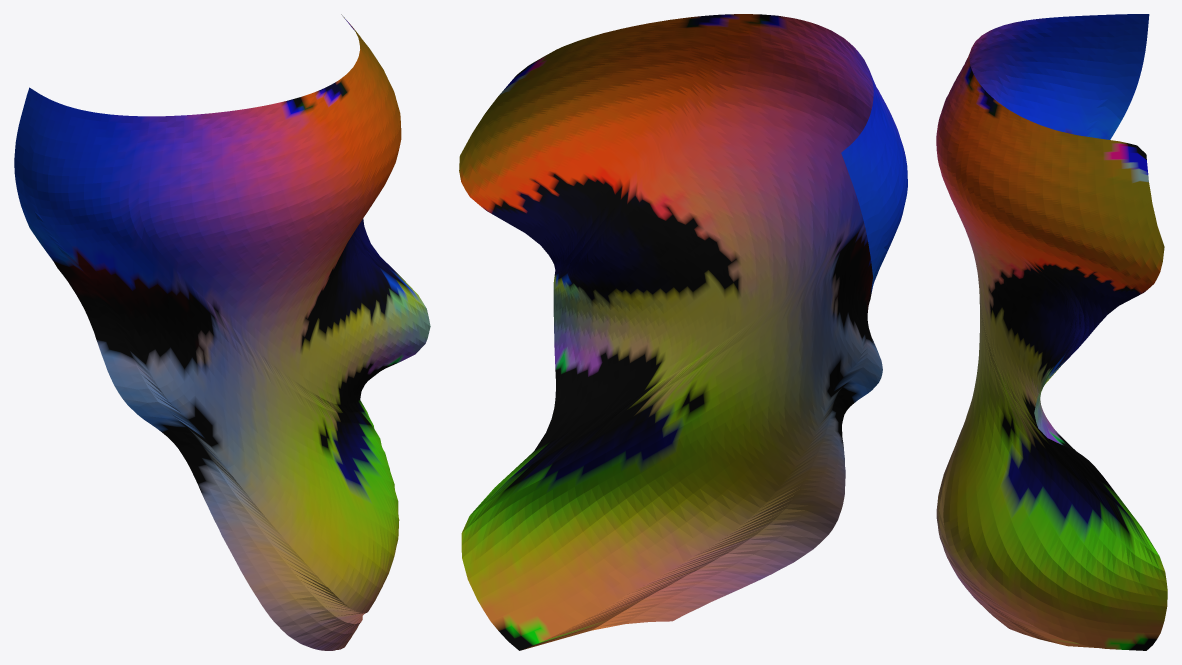
Rendered from cutted_roof100x100_colors.obj.
The picture shows the model from 3 angles, left to right: view 1: azimuth 30°, elevation 25°; view 2: azimuth 150°, elevation 25°; view 3: azimuth 270°, elevation 25°; orthographic projection. The views are drawn at different scales.
Size of the model in its own units: 23.12 by 34.13 by 13.55.
